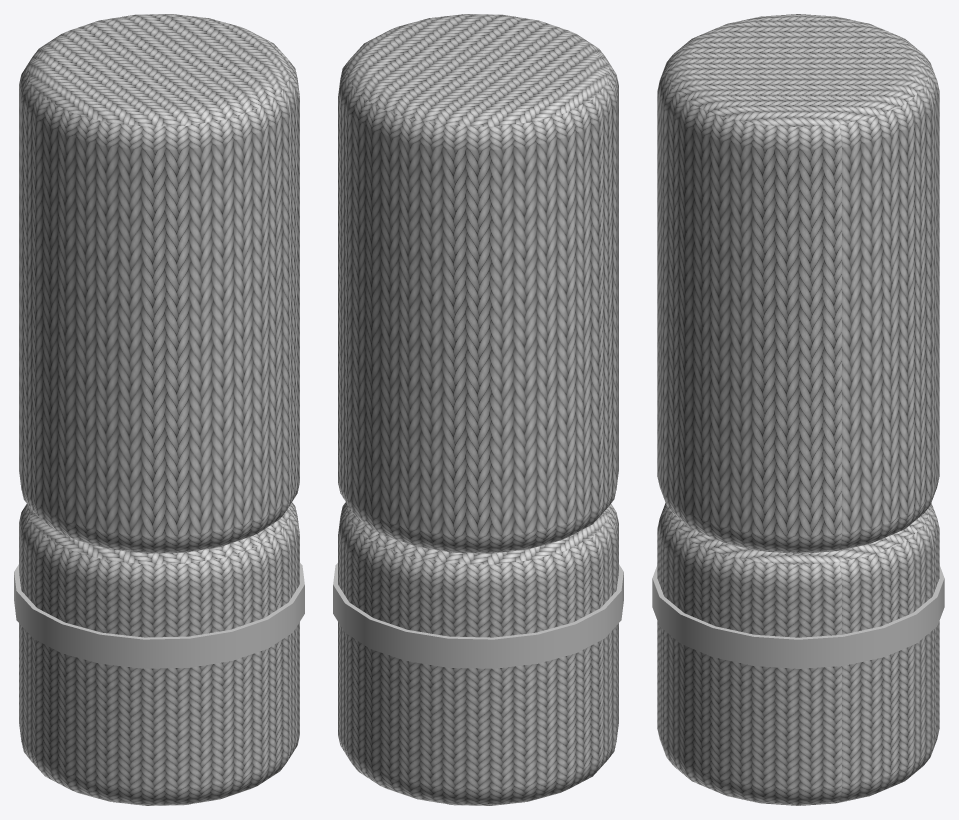
3 views of the same model, side by side, from view 1: azimuth 30°, elevation 25°; view 2: azimuth 150°, elevation 25°; view 3: azimuth 270°, elevation 25° (orthographic).
Visible parts, largest first — view 1: pCylinder4, pCylinder3, decor; view 2: pCylinder4, pCylinder3, decor; view 3: pCylinder4, pCylinder3, decor.
Part boxes in pixels (bbox=[...]): pCylinder4: bbox=[19, 14, 299, 553]; pCylinder3: bbox=[19, 502, 299, 805]; decor: bbox=[14, 563, 304, 668]; pCylinder4: bbox=[338, 14, 618, 553]; pCylinder3: bbox=[338, 502, 618, 805]; decor: bbox=[333, 563, 623, 668]; pCylinder4: bbox=[657, 14, 939, 553]; pCylinder3: bbox=[657, 503, 939, 805]; decor: bbox=[652, 565, 944, 668].
Size of the model in its own units: 225 by 588 by 225.
